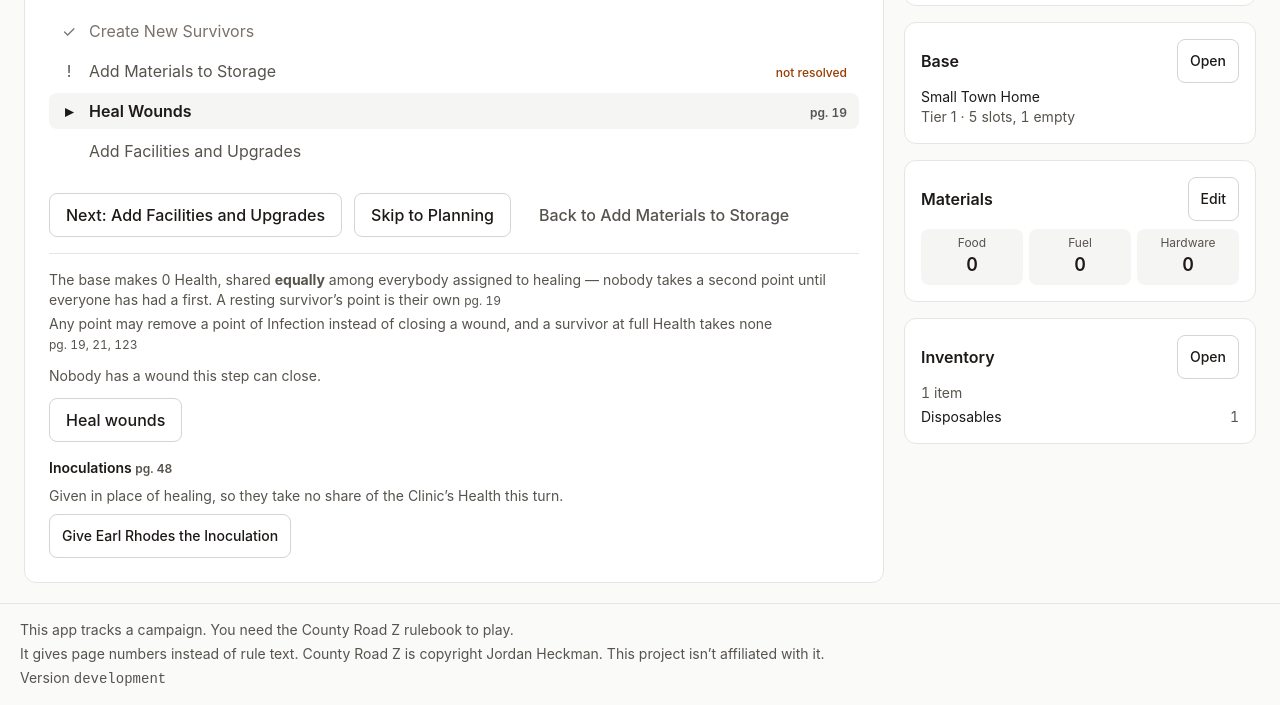
giving it at Heal Wounds (R97) › gives the Inoculation chosen last Planning Phase, and says so
(page scrolled)
Click the button "Give Earl Rhodes the Inoculation" at (170, 536), box [49,514,291,558]
(page scrolled)
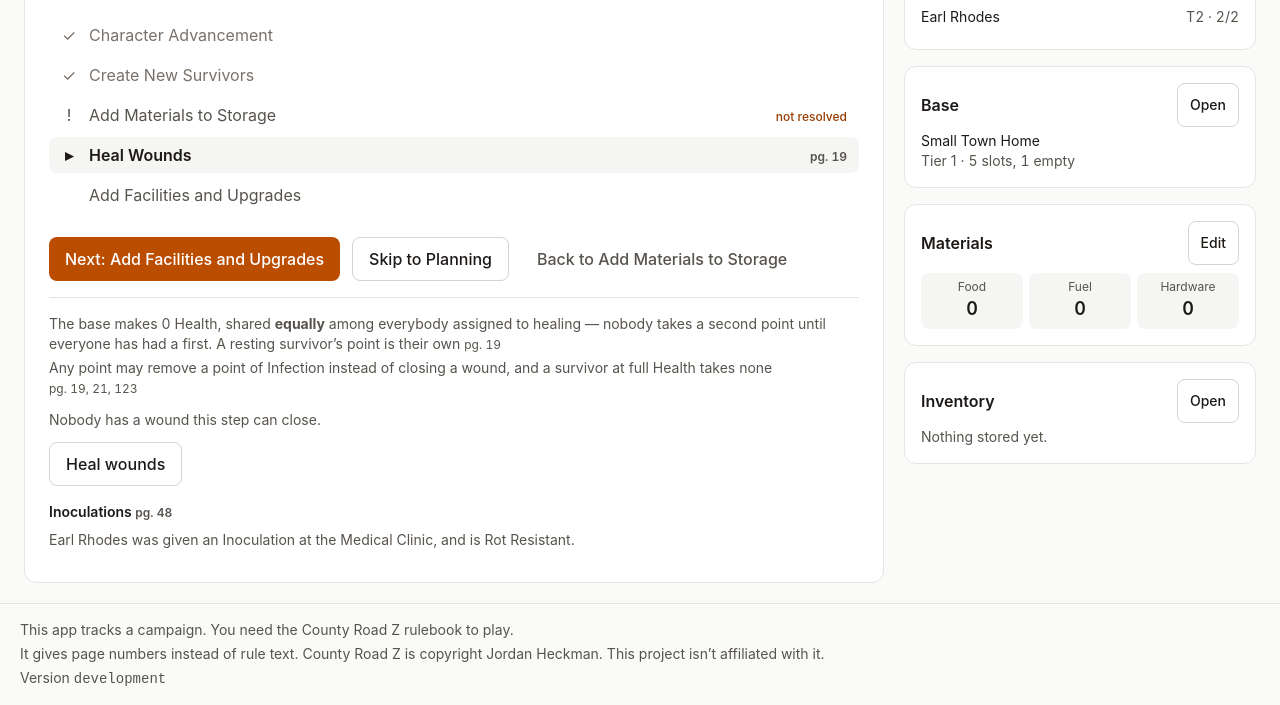
Expected: the text "Earl Rhodes was given an Inoculation at the Medical Clinic, and is Rot Resistant." is shown, [49,530,575,548]
